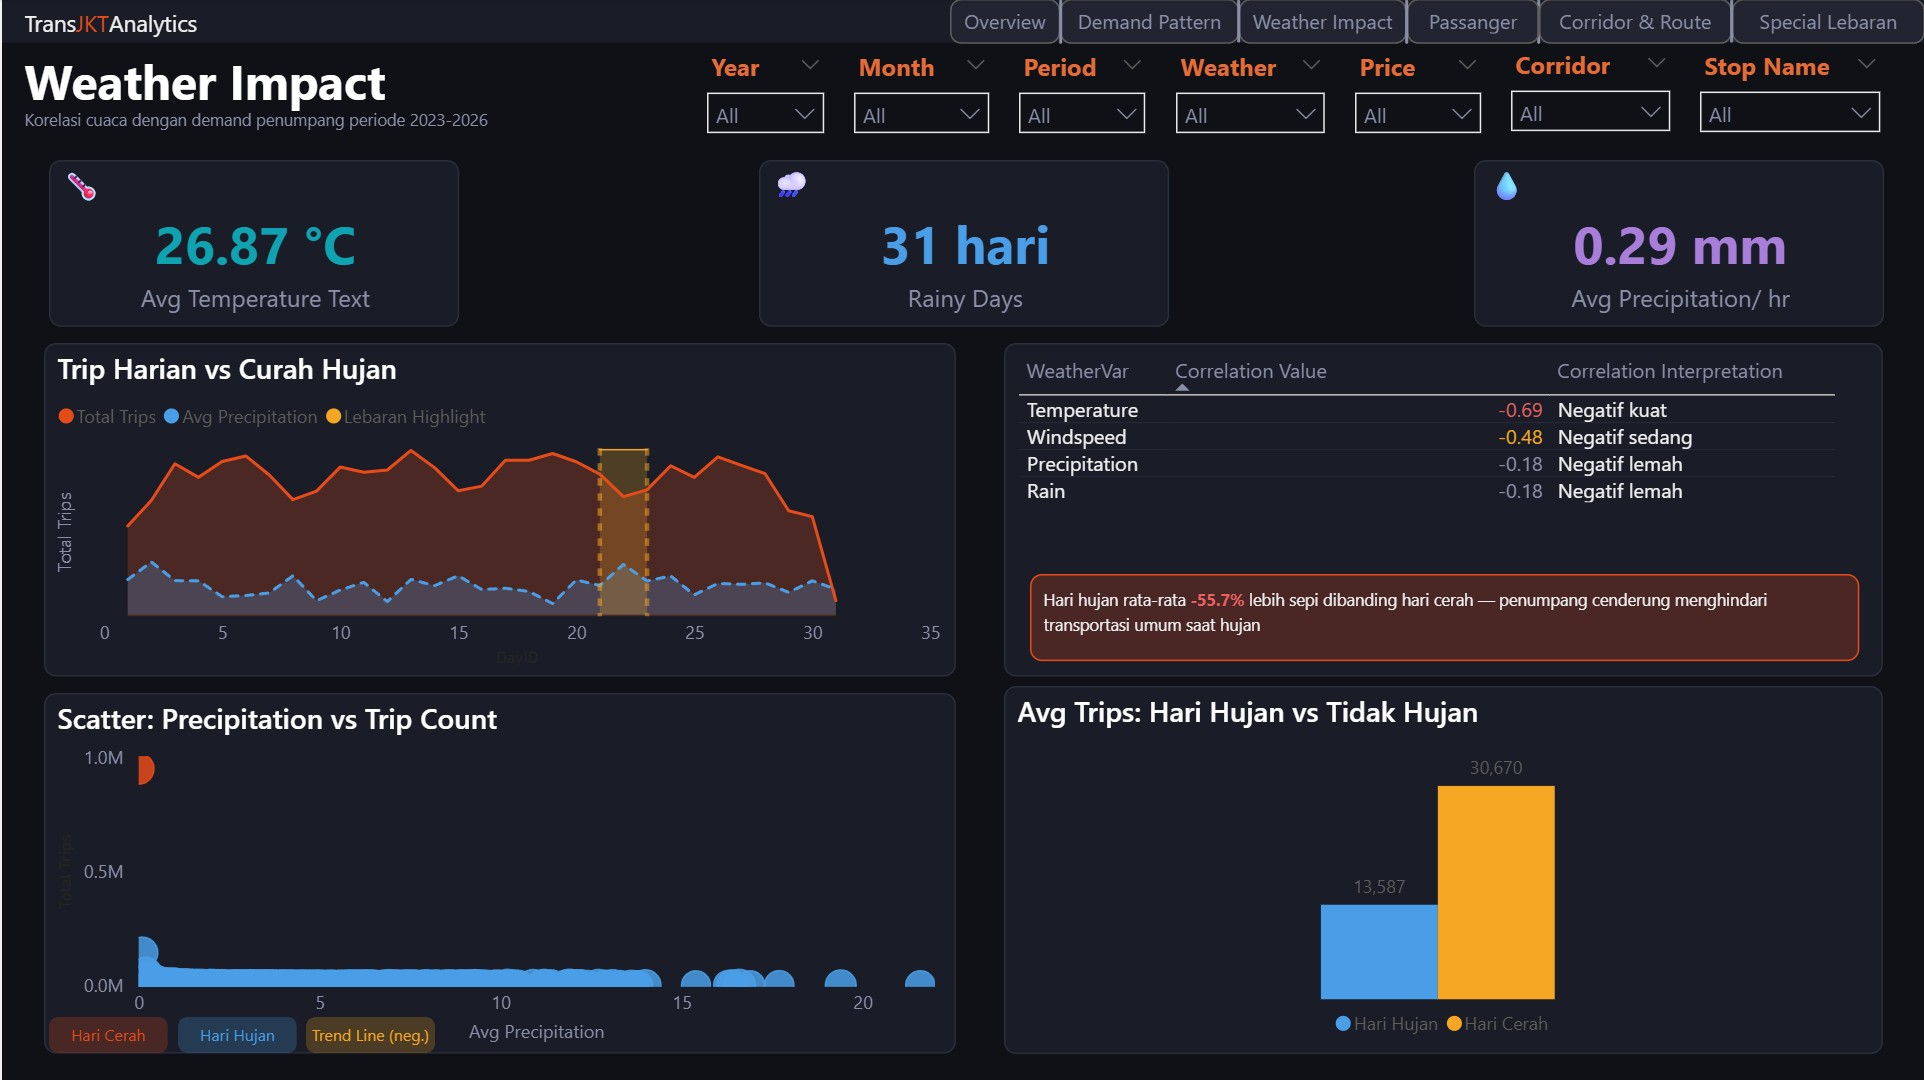

The dashboard page shown, as its layout file describes it:
{"tool":"powerbi","page":{"name":"WEATHER IMPACT","canvas":[1280,720],"ordinal":2},"visuals":[{"type":"shape","box":[0,0,1280.3,29.5],"z":0},{"type":"actionButton","box":[630.9,0,73.3,29.8],"z":0,"group":"g1"},{"type":"shape","box":[1002.5,0,40.9,29.8],"z":0,"group":"g3"},{"type":"htmlContent443BE3AD55E043BF878BED274D3A6855","fields":{"content":["FACT_TRANSJAKARTA.Navbar Brand"]},"box":[9.8,0,135.8,35.6],"z":1000},{"type":"group","id":"g1","title":"Group 2","box":[630.9,0,649.1,29.8],"z":1000,"group":"g3"},{"type":"actionButton","box":[704.2,0,119.3,29.8],"z":1000,"group":"g1"},{"type":"actionButton","box":[823.5,0,111.5,29.8],"z":2000,"group":"g1"},{"type":"card","title":"🌡️","fields":{"Values":["FACT_TRANSJAKARTA.Avg Temperature Text"]},"box":[31.3,106.9,272.8,111.2],"z":2000},{"type":"actionButton","box":[935,0,88.2,29.8],"z":3000,"group":"g1"},{"type":"card","title":"🌧️","fields":{"Values":["FACT_TRANSJAKARTA.Total Rain Days"]},"box":[503.8,106.9,272.8,111.2],"z":3000},{"type":"actionButton","box":[1023.2,0,128.4,29.8],"z":4000,"group":"g1"},{"type":"card","title":"💧","fields":{"Values":["FACT_TRANSJAKARTA.Avg Precipitation Text"]},"box":[979.9,106.9,272.8,111.2],"z":4000},{"type":"actionButton","box":[1151.6,0,128.4,29.8],"z":5000,"group":"g1"},{"type":"textbox","box":[9.8,27,350.2,57.1],"z":5000},{"type":"shape","box":[684.1,0,40.9,29.8],"z":6000,"group":"g1"},{"type":"textbox","box":[9.8,65.1,350.2,28.9],"z":6000},{"type":"shape","box":[802.7,0,40.9,29.2],"z":7000,"group":"g1"},{"type":"clusteredColumnChart","title":"Avg Trips: Hari Hujan vs Tidak Hujan","fields":{"Y":["FACT_TRANSJAKARTA.Avg Trips Rainy Day","FACT_TRANSJAKARTA.Avg Trips Dry Day"]},"box":[667.2,457.1,585.5,244.5],"z":7000},{"type":"shape","box":[914.3,0,40.9,29.8],"z":8000,"group":"g1"},{"type":"scatterChart","title":"Scatter: Precipitation vs Trip Count","fields":{"Y":["FACT_TRANSJAKARTA.Total Trips"],"Series":["FACT_TRANSJAKARTA.rainStatus"],"Category":["FACT_TRANSJAKARTA.precipitation"],"X":["FACT_TRANSJAKARTA.Avg Precipitation"],"Size":["FACT_TRANSJAKARTA.Avg Temperature"]},"box":[28.3,462,607,239.6],"z":8000},{"type":"shape","box":[1130.8,0,40.9,29.2],"z":9000,"group":"g1"},{"type":"shape","box":[31.3,677.6,79.2,24],"z":9000},{"type":"shape","box":[117.2,677.6,79.2,24],"z":10000},{"type":"shape","box":[202.4,677.6,85.9,24],"z":11000},{"type":"areaChart","title":"Trip Harian vs Curah Hujan","fields":{"Category":["DIM_CALENDAR.DayID"],"Y":["FACT_TRANSJAKARTA.Total Trips"],"Y2":["FACT_TRANSJAKARTA.Avg Precipitation Normalized","FACT_TRANSJAKARTA.Lebaran Highlight Normalized"]},"box":[28.3,229.1,607,221.8],"z":12000},{"type":"tableEx","fields":{"Values":["CorrLabels.WeatherVar","CorrLabels.Correlation Value","CorrLabels.Correlation Interpretation"]},"box":[667.2,229.1,585.5,221.8],"z":13000},{"type":"htmlContent443BE3AD55E043BF878BED274D3A6855","fields":{"content":["FACT_TRANSJAKARTA.Rain Impact Text"]},"box":[684.4,382.7,552.3,57.7],"z":14000},{"type":"group","id":"g2","title":"Group 1","box":[459.5,28.3,801.1,71.9],"z":15000},{"type":"slicer","fields":{"Values":["DIM_CALENDAR.Year"]},"box":[459.5,29.6,97.7,70.6],"z":15000,"group":"g2"},{"type":"group","id":"g3","title":"Group 3","box":[630.9,0,649.1,29.8],"z":16000},{"type":"slicer","fields":{"Values":["DIM_CALENDAR.Weekday_Weekend"]},"box":[667.1,29.6,104.4,70.6],"z":16000,"group":"g2"},{"type":"slicer","fields":{"Values":["DIM_ROUTES_SLICER.Concated Route"]},"box":[994.8,28.3,125.9,71.3],"z":17000,"group":"g2"},{"type":"slicer","fields":{"Values":["DIM_CALENDAR.MonthName"]},"box":[557.2,29.6,110,70.6],"z":18000,"group":"g2"},{"type":"slicer","fields":{"Values":["DIM_FARES.Price"]},"box":[890.8,29.6,103.8,70.6],"z":19000,"group":"g2"},{"type":"slicer","fields":{"Values":["DIM_STOPS.StopName"]},"box":[1120.5,29,140.1,70.6],"z":20000,"group":"g2"},{"type":"slicer","fields":{"Values":["DIM_WEATHER.isRain"]},"box":[771.6,29.6,119.2,70.6],"z":21000,"group":"g2"}]}

Visuals, with their boxes in screenshot pixels (x1, y1, x2, y2), scaled from the page's 1280x720 canvas onto the 1924x1080 screenshot:
shape: (x1=0, y1=0, x2=1923, y2=44)
actionButton: (x1=948, y1=0, x2=1059, y2=45)
shape: (x1=1507, y1=0, x2=1568, y2=45)
htmlContent443BE3AD55E043BF878BED274D3A6855 - FACT_TRANSJAKARTA.Navbar Brand: (x1=15, y1=0, x2=219, y2=53)
"Group 2" group: (x1=948, y1=0, x2=1923, y2=45)
actionButton: (x1=1059, y1=0, x2=1238, y2=45)
actionButton: (x1=1238, y1=0, x2=1405, y2=45)
"🌡️" card: (x1=47, y1=160, x2=457, y2=327)
actionButton: (x1=1405, y1=0, x2=1538, y2=45)
"🌧️" card: (x1=757, y1=160, x2=1167, y2=327)
actionButton: (x1=1538, y1=0, x2=1731, y2=45)
"💧" card: (x1=1473, y1=160, x2=1883, y2=327)
actionButton: (x1=1731, y1=0, x2=1923, y2=45)
textbox: (x1=15, y1=40, x2=541, y2=126)
shape: (x1=1028, y1=0, x2=1090, y2=45)
textbox: (x1=15, y1=98, x2=541, y2=141)
shape: (x1=1207, y1=0, x2=1268, y2=44)
"Avg Trips: Hari Hujan vs Tidak Hujan" clusteredColumnChart: (x1=1003, y1=686, x2=1883, y2=1052)
shape: (x1=1374, y1=0, x2=1436, y2=45)
"Scatter: Precipitation vs Trip Count" scatterChart: (x1=43, y1=693, x2=955, y2=1052)
shape: (x1=1700, y1=0, x2=1761, y2=44)
shape: (x1=47, y1=1016, x2=166, y2=1052)
shape: (x1=176, y1=1016, x2=295, y2=1052)
shape: (x1=304, y1=1016, x2=433, y2=1052)
"Trip Harian vs Curah Hujan" areaChart: (x1=43, y1=344, x2=955, y2=676)
tableEx - CorrLabels.WeatherVar x CorrLabels.Correlation Value: (x1=1003, y1=344, x2=1883, y2=676)
htmlContent443BE3AD55E043BF878BED274D3A6855 - FACT_TRANSJAKARTA.Rain Impact Text: (x1=1029, y1=574, x2=1859, y2=661)
"Group 1" group: (x1=691, y1=42, x2=1895, y2=150)
slicer - DIM_CALENDAR.Year: (x1=691, y1=44, x2=838, y2=150)
"Group 3" group: (x1=948, y1=0, x2=1923, y2=45)
slicer - DIM_CALENDAR.Weekday_Weekend: (x1=1003, y1=44, x2=1160, y2=150)
slicer - DIM_ROUTES_SLICER.Concated Route: (x1=1495, y1=42, x2=1685, y2=149)
slicer - DIM_CALENDAR.MonthName: (x1=838, y1=44, x2=1003, y2=150)
slicer - DIM_FARES.Price: (x1=1339, y1=44, x2=1495, y2=150)
slicer - DIM_STOPS.StopName: (x1=1684, y1=44, x2=1895, y2=149)
slicer - DIM_WEATHER.isRain: (x1=1160, y1=44, x2=1339, y2=150)
